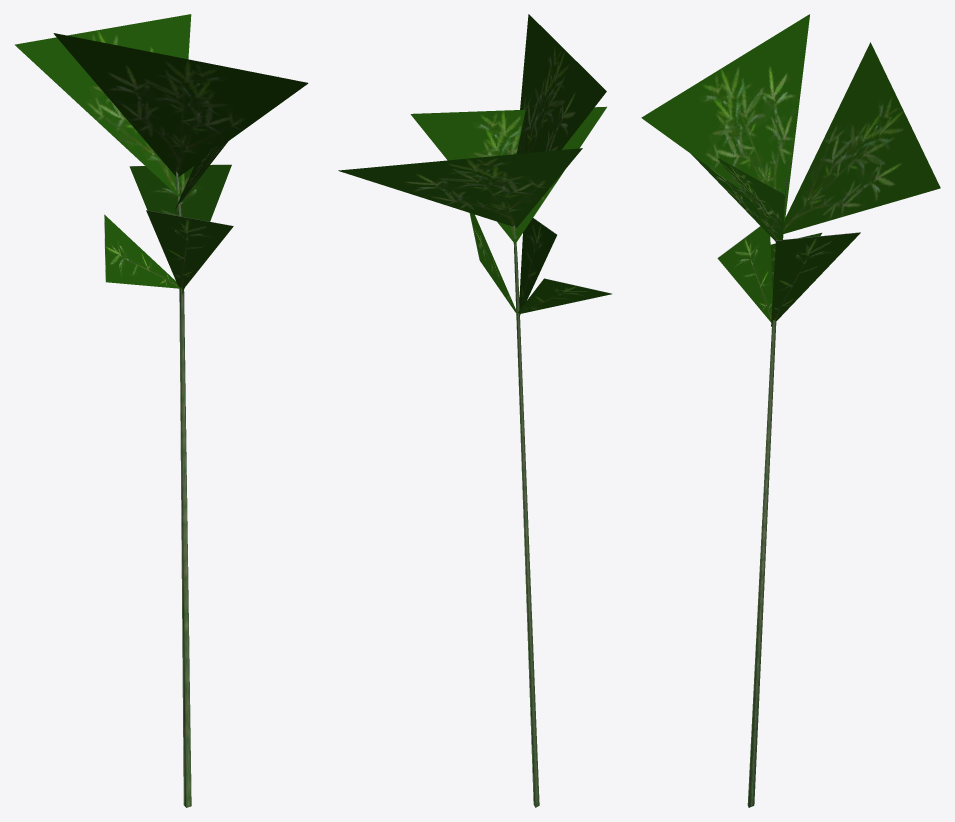
Rendered from leaf_bamboo_sm_l2.fbx.
3 views of the same model, side by side, from view 1: azimuth 30°, elevation 25°; view 2: azimuth 150°, elevation 25°; view 3: azimuth 270°, elevation 25° (orthographic). The views are drawn at different scales.
Visible parts, largest first — view 1: mesh_node; view 2: mesh_node; view 3: mesh_node.
Boxes of the visible parts, x1=… form: mesh_node: x1=14, y1=14, x2=308, y2=807; mesh_node: x1=338, y1=14, x2=611, y2=807; mesh_node: x1=641, y1=14, x2=940, y2=807.
Bounding box in the file's own units: 3.46 × 11.61 × 4.24.
Materials: 2 (2 with a texture image).
